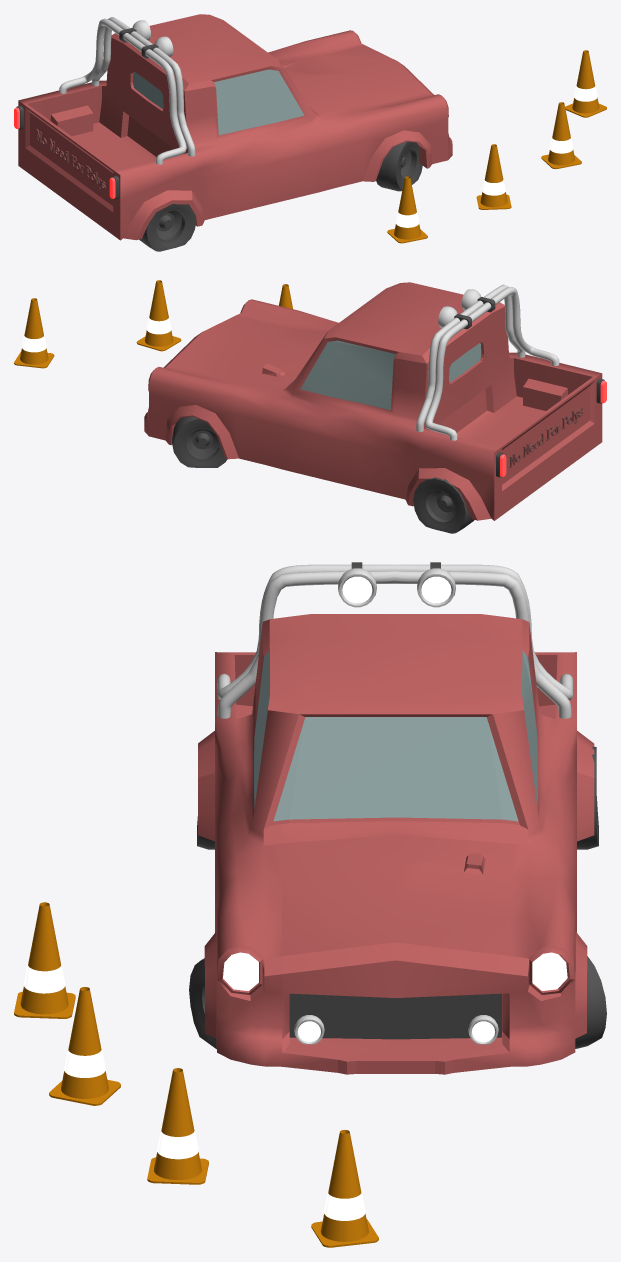
Rendered from low_polly_car.glb.
3 renders of one model, top to bottom at view 1: azimuth 30°, elevation 25°; view 2: azimuth 150°, elevation 25°; view 3: azimuth 270°, elevation 25°, orthographic. The views are drawn at different scales.
Parts seen in each view (by area): view 1: Plane001, Object008_windows_0, Line001, Cylinder002, Cylinder003, Line002, Cone002, Cone004, Cone003, Cone001, Text001, Object010_windows_0; view 2: Plane001, Object009_windows_0, Line001, Cylinder005, Cylinder004, Line002, Cone002, Cone003, Text001, Object010_windows_0; view 3: Plane001, Object007_windows_0, Object001_Material #27_0, Line002, Line001, Cone004, Cone001, Cone002, Cone003, Cylinder004, Object008_windows_0, Object009_windows_0 (+7 smaller).
Part boxes in pixels (box(x1,y1,x2,y2)): Plane001: box(18, 14, 452, 240); Object008_windows_0: box(214, 69, 304, 135); Line001: box(59, 18, 186, 164); Cylinder002: box(139, 204, 196, 251); Cylinder003: box(376, 141, 422, 191); Line002: box(92, 17, 195, 156); Cone002: box(548, 102, 574, 165); Cone004: box(394, 176, 420, 239); Cone003: box(572, 50, 599, 113); Cone001: box(480, 144, 507, 207); Text001: box(36, 129, 105, 189); Object010_windows_0: box(133, 71, 163, 108); Plane001: box(144, 282, 602, 520); Object009_windows_0: box(300, 340, 395, 410); Line001: box(425, 287, 559, 440); Cylinder005: box(413, 477, 474, 533); Cylinder004: box(172, 416, 227, 467); Line002: box(416, 284, 525, 431); Cone002: box(144, 280, 173, 346); Cone003: box(20, 298, 48, 364); Text001: box(509, 408, 582, 467); Object010_windows_0: box(449, 343, 481, 382); Plane001: box(198, 614, 594, 1074); Object007_windows_0: box(273, 717, 518, 821); Object001_Material #27_0: box(289, 993, 501, 1039); Line002: box(217, 571, 571, 718); Line001: box(217, 564, 573, 700); Cone004: box(20, 902, 68, 1014); Cone001: box(61, 987, 108, 1098); Cone002: box(154, 1068, 201, 1179); Cone003: box(320, 1130, 368, 1241); Cylinder004: box(575, 956, 606, 1048); Object008_windows_0: box(254, 650, 269, 808); Object009_windows_0: box(522, 650, 537, 807).
Bounding box in the file's own units: 5.52 × 1.71 × 3.05.
